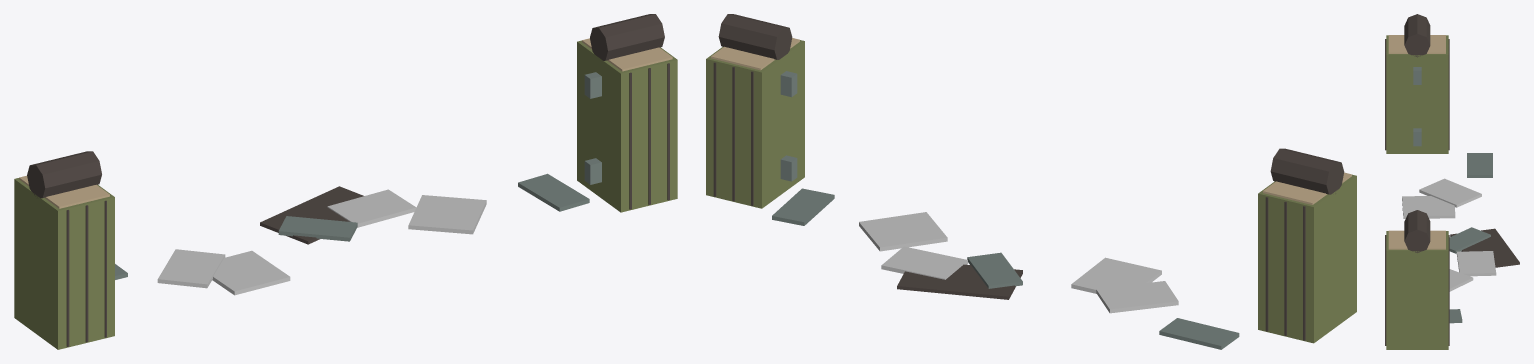
File: SM_PuertaVehiculos_v3_MallaEspino_e3_Brecha_LOD0.fbx
3 renders of one model, left to right at view 1: azimuth 30°, elevation 25°; view 2: azimuth 150°, elevation 25°; view 3: azimuth 270°, elevation 25°, orthographic. The views are drawn at different scales.
Parts seen in each view (by area): view 1: SM_bloques.puerta_estados_v15_LOD0, Hoja_E; view 2: SM_bloques.puerta_estados_v15_LOD0, Hoja_E; view 3: SM_bloques.puerta_estados_v15_LOD0, Hoja_O.
Part boxes in pixels (x1=…): SM_bloques.puerta_estados_v15_LOD0: x1=14, y1=14, x2=677, y2=349; Hoja_E: x1=584, y1=72, x2=601, y2=184; SM_bloques.puerta_estados_v15_LOD0: x1=706, y1=14, x2=1356, y2=349; Hoja_E: x1=780, y1=71, x2=797, y2=181; SM_bloques.puerta_estados_v15_LOD0: x1=1385, y1=14, x2=1519, y2=349; Hoja_O: x1=1413, y1=67, x2=1421, y2=146.
Size of the model in its own units: 9.8 by 2.55 by 2.59.
